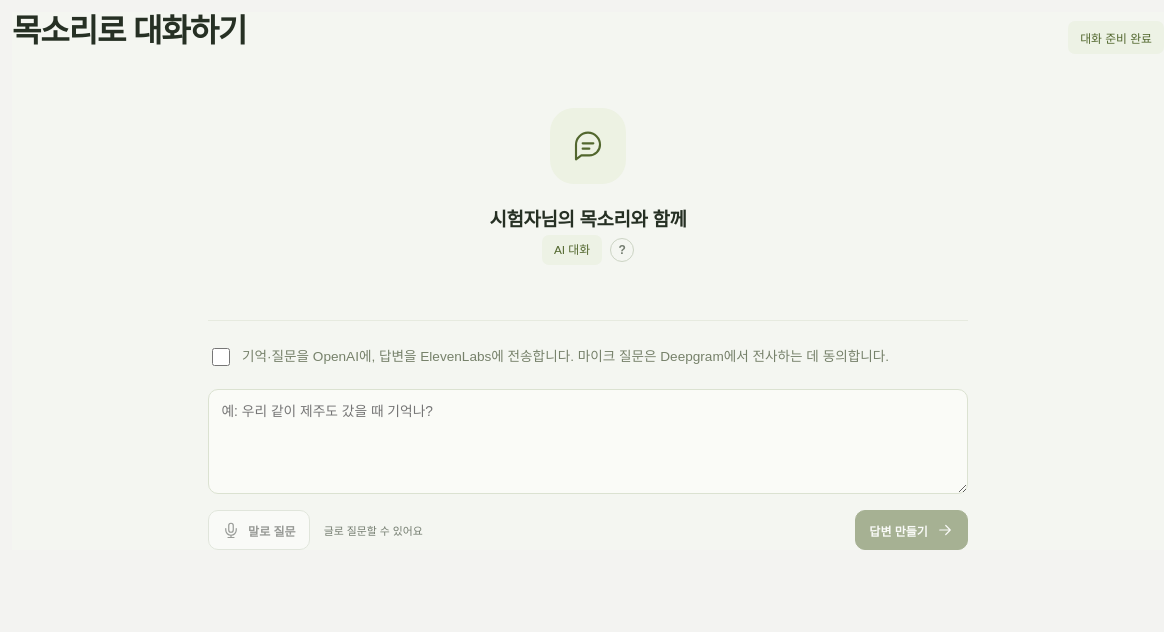
Test: 가족 시연 공간 › 전송 동의가 있어야 기억을 담은 질문을 보내고 음성을 돌려받는다
Type "제주도 기억나?" into the text box named "대화할 질문". click: (588, 442)
box: [208,389,968,494]
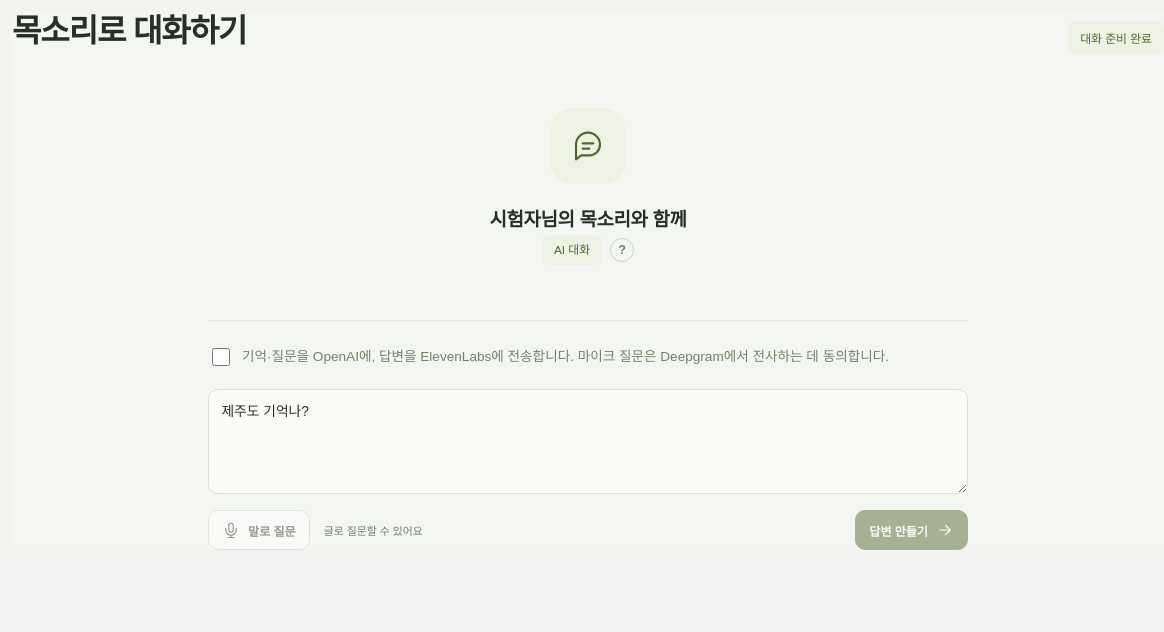
Expected: the button "답변 만들기" is disabled, [855,510,968,550]
Click the checkbox. click: click(221, 357)
box: [212,348,230,366]
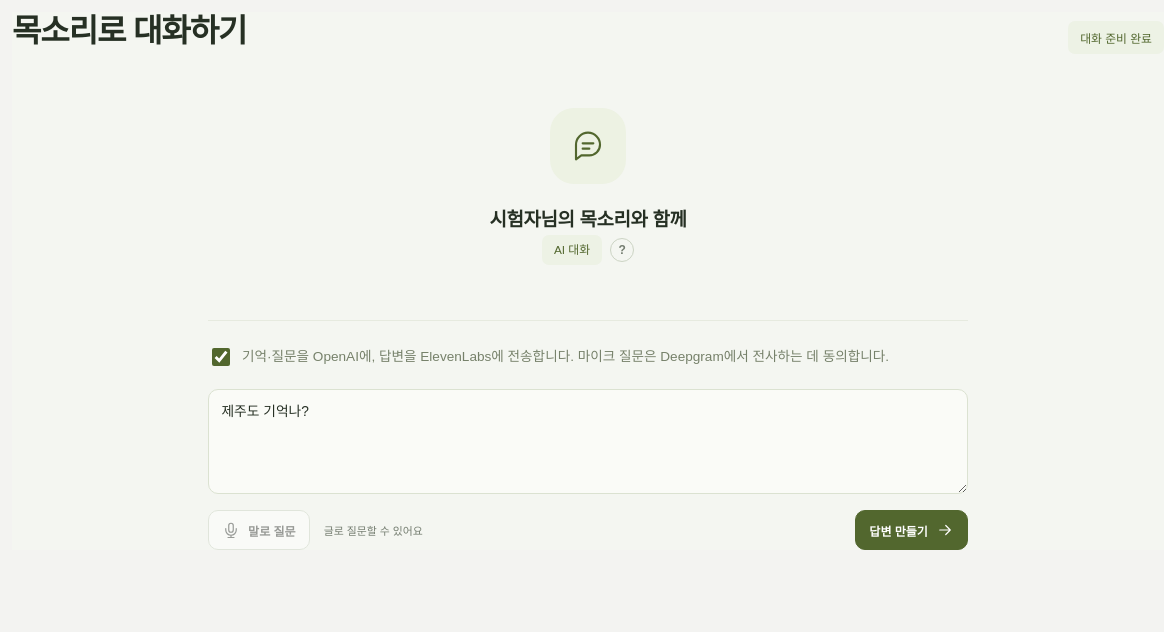
Click the button "답변 만들기". click: click(912, 530)
box: [855,510,968,550]
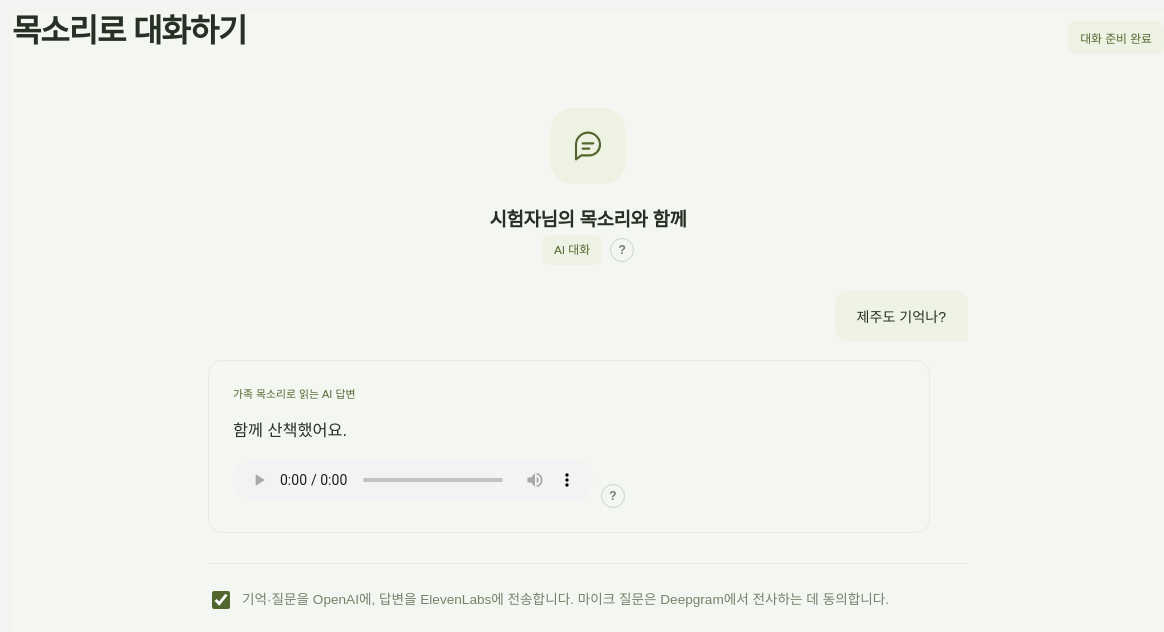
Expected: the text "함께 산책했어요." is shown, [233,421,347,439]
Click the checkbox. click: click(221, 600)
box: [212,591,230,609]
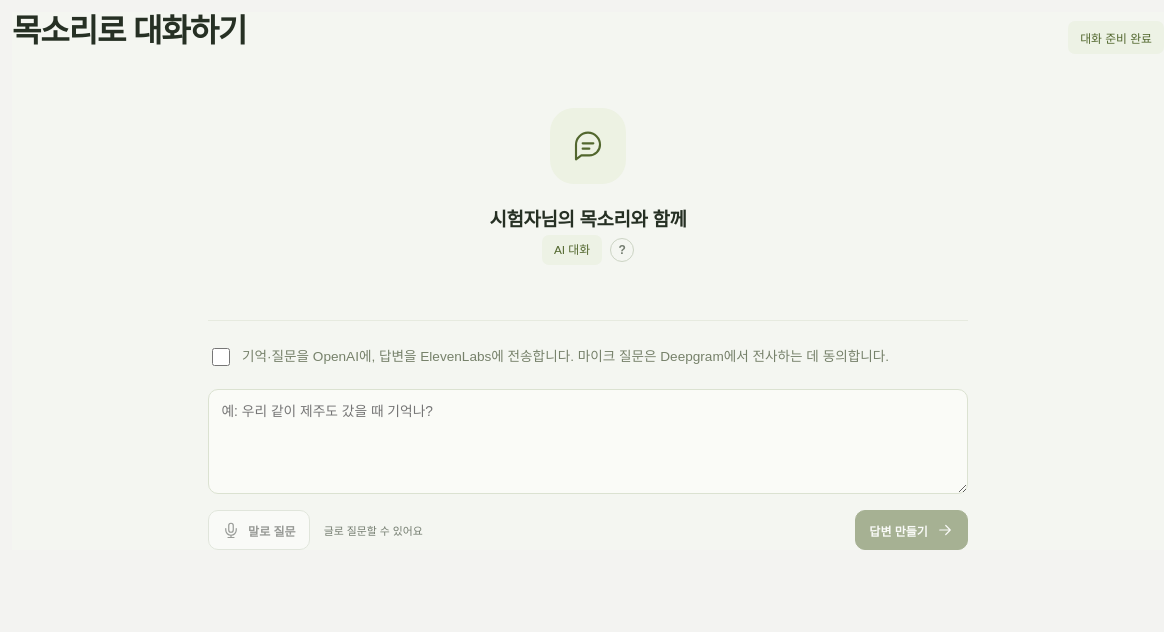
Expected: the text "함께 산책했어요." is gone
